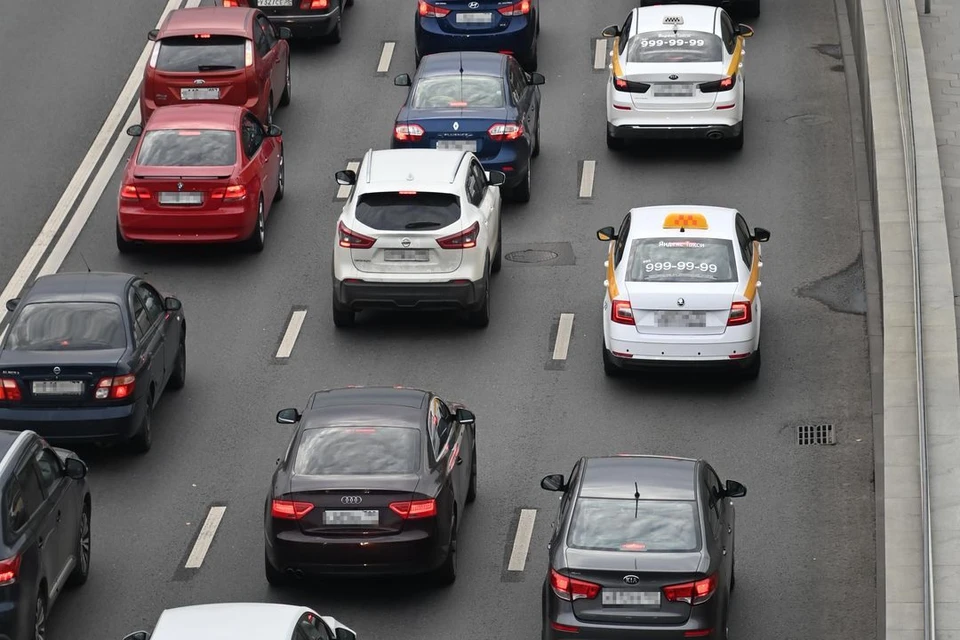Car: (264, 386, 478, 585), (541, 454, 747, 640), (0, 272, 188, 453), (332, 149, 503, 328), (597, 205, 773, 377), (115, 105, 286, 253), (391, 52, 545, 204), (602, 4, 754, 151), (0, 430, 92, 640), (140, 7, 291, 124), (122, 602, 359, 640), (414, 0, 540, 71), (216, 0, 353, 44), (640, 0, 761, 19)
